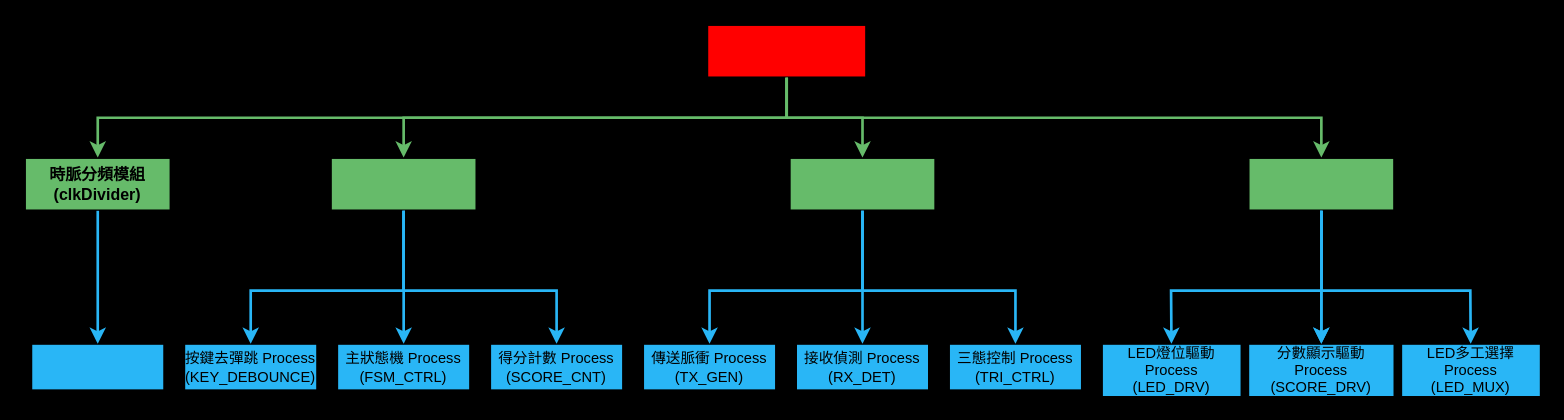
Image size: 1564x420. Some labels were removed from this diagram. The shapes that lost their labels are listed below. From the top down, each one's box as (x1, y1, x2, y2) in pixels, then its label:
(705, 23, 867, 78): 雙板乒乓球遊戲頂層 (pingpong_double)
(329, 156, 477, 211): 板端控制器 (boardController)
(787, 156, 936, 211): 雙板通訊收發器 (linkTransceiver)
(1246, 156, 1395, 211): 顯示與計分管理器 (displayManager)
(30, 342, 165, 391): 時脈產生 Process (CLK_GEN)
